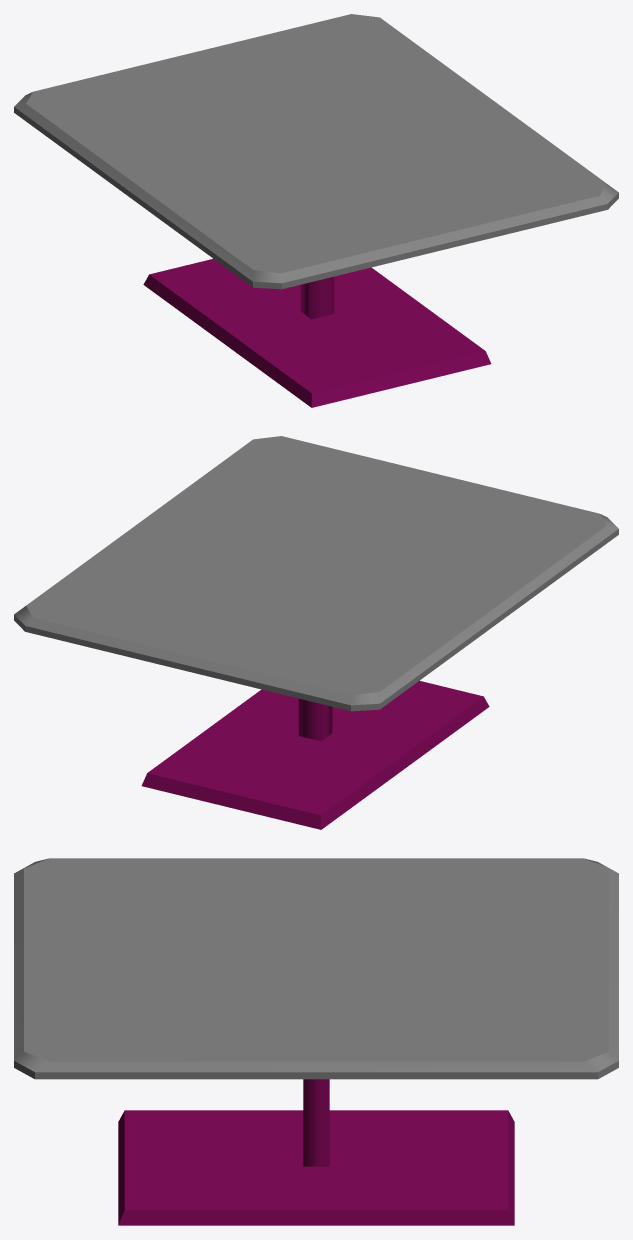
Rendered from SM_Table_1.fbx.
3 renders of one model, top to bottom at view 1: azimuth 30°, elevation 25°; view 2: azimuth 150°, elevation 25°; view 3: azimuth 270°, elevation 25°, orthographic. The views are drawn at different scales.
Parts seen in each view (by area): view 1: SM_Table_1; view 2: SM_Table_1; view 3: SM_Table_1.
Part boxes in pixels (<box>): SM_Table_1: <box>14,14,618,407</box>; SM_Table_1: <box>14,436,618,829</box>; SM_Table_1: <box>14,858,618,1225</box>.
Bounding box in the file's own units: 138 × 65.27 × 168.
